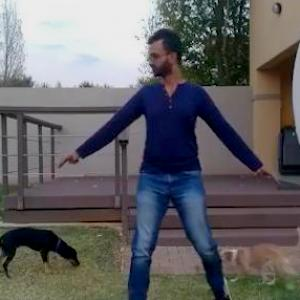land: (72, 25, 274, 299)
